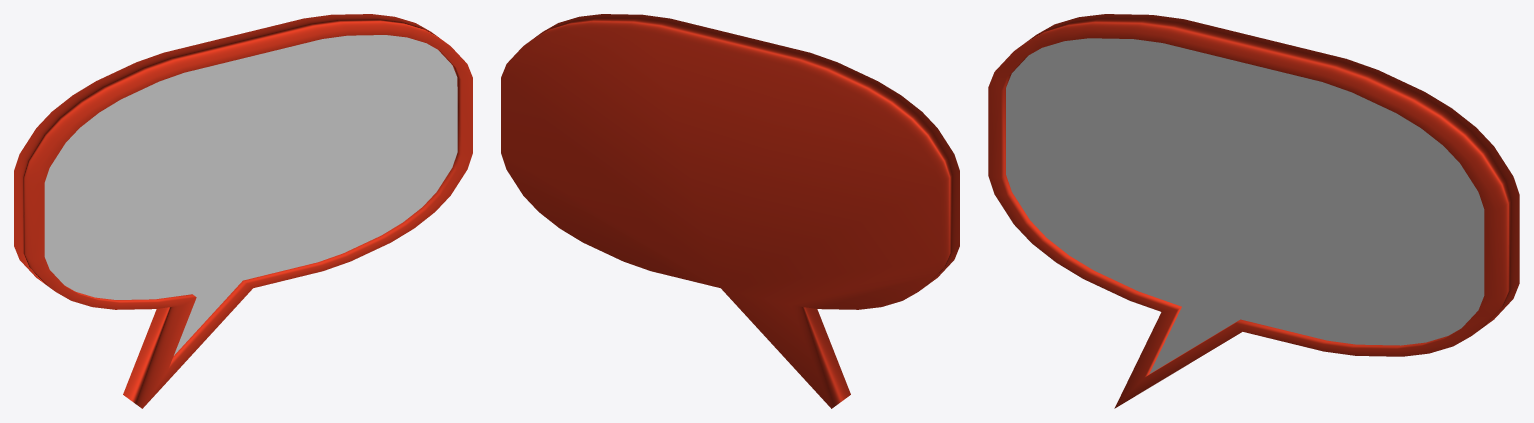
File: speechbubble_shente_mirror.dae
3 views of the same model, side by side, from view 1: azimuth 30°, elevation 25°; view 2: azimuth 150°, elevation 25°; view 3: azimuth 330°, elevation 25° (orthographic). The views are drawn at different scales.
Visible parts, largest first — view 1: Cube_001, Cube; view 2: Cube; view 3: Cube_001, Cube.
Boxes of the visible parts, x1=… form: Cube_001: x1=44, y1=35, x2=457, y2=355; Cube: x1=14, y1=14, x2=472, y2=408; Cube: x1=501, y1=14, x2=959, y2=408; Cube_001: x1=1006, y1=38, x2=1484, y2=373; Cube: x1=988, y1=14, x2=1519, y2=408.
Size of the model in its own units: 3.79 by 0.2921 by 2.74.
